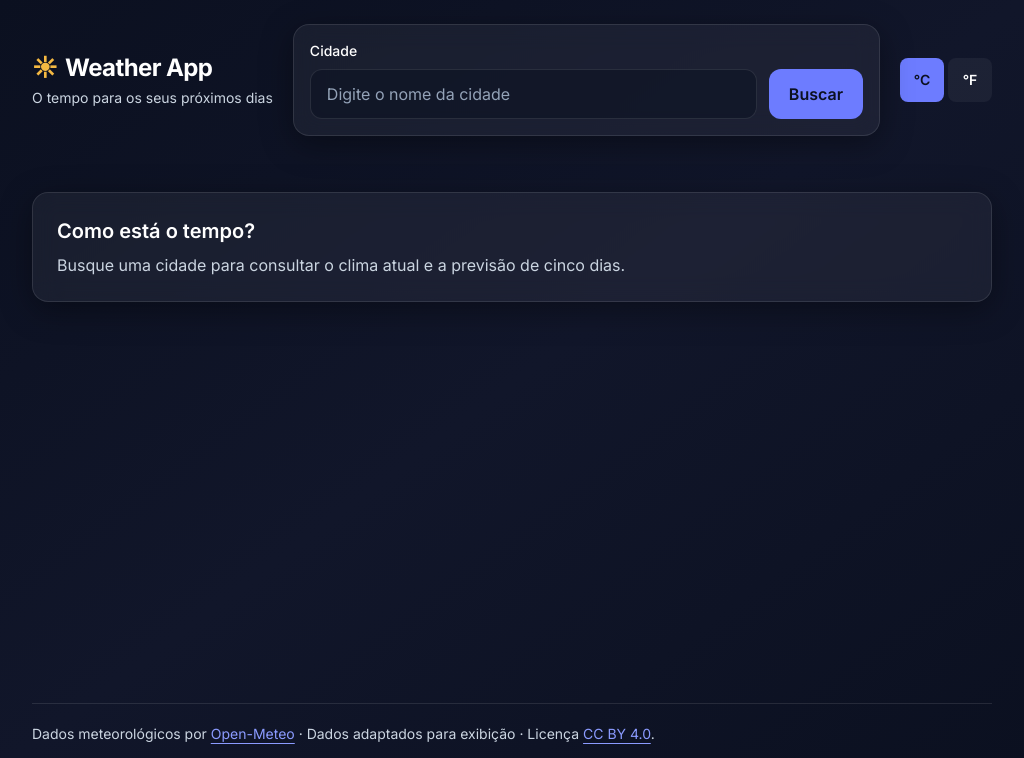
App integrado ao useWeather › repete a busca após erro sem mudar a cidade ou o clima selecionado
Type "Curitiba" into the search field at (533, 94), box [310, 69, 757, 119]
Then press Enter
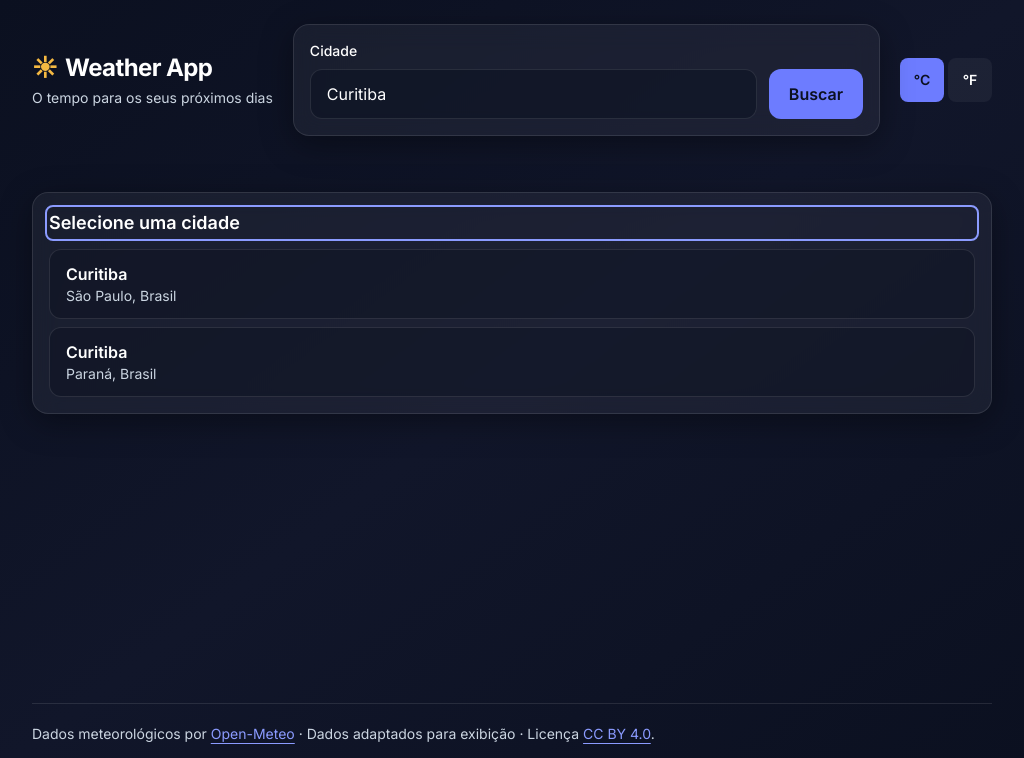
Click the button "Curitiba São Paulo, Brasil" at (97, 274), box [49, 249, 975, 319]
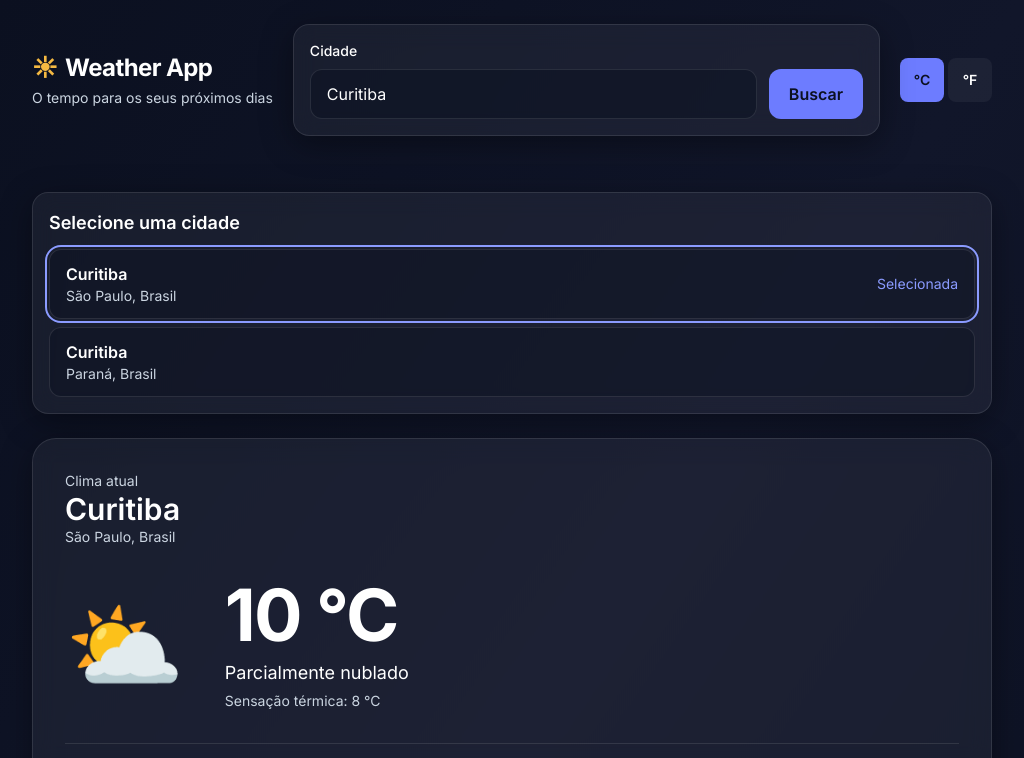
Now the text named "Temperatura atual" is shown, box [225, 579, 409, 651]
Replace the text in the search field with " Curitiba " at (533, 94), box [310, 69, 757, 119]
Then press Enter
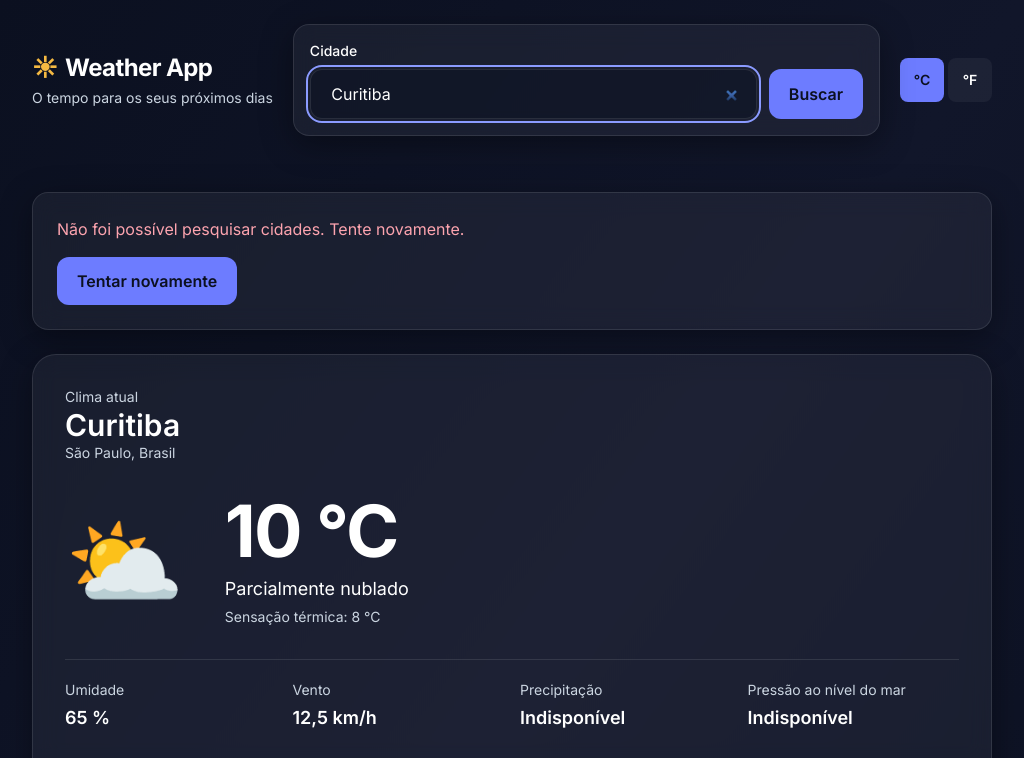
Now the text named "Temperatura atual" is shown, box [225, 495, 409, 567]
Now the message reads "Não foi possível pesquisar cidades. Tente novamente.", box [57, 219, 464, 239]
Click the button "Tentar novamente" at (147, 281), box [57, 257, 237, 305]
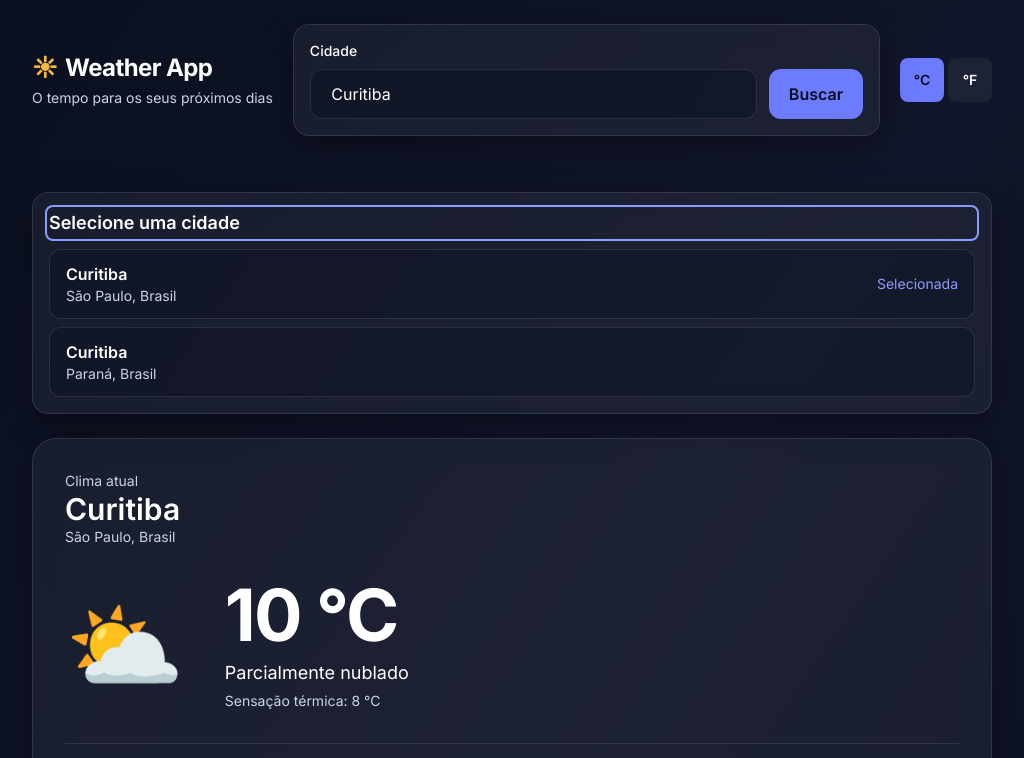
Now the element named "Resultados da busca" is shown, box [32, 192, 992, 414]
